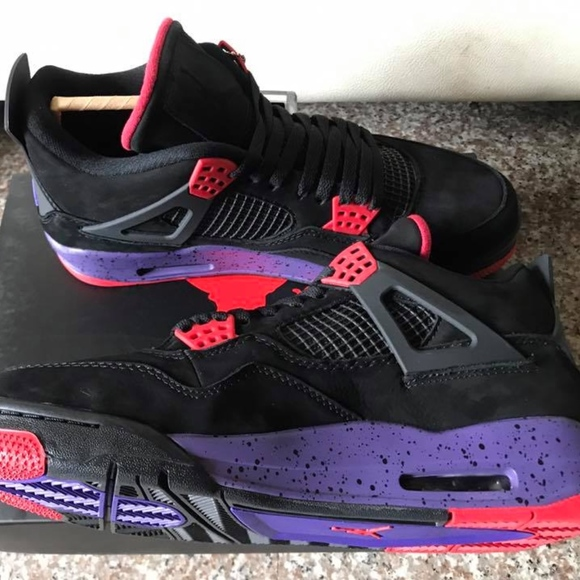Air Jordan 4 Raptors: (1, 210, 579, 570), (4, 11, 527, 303)
